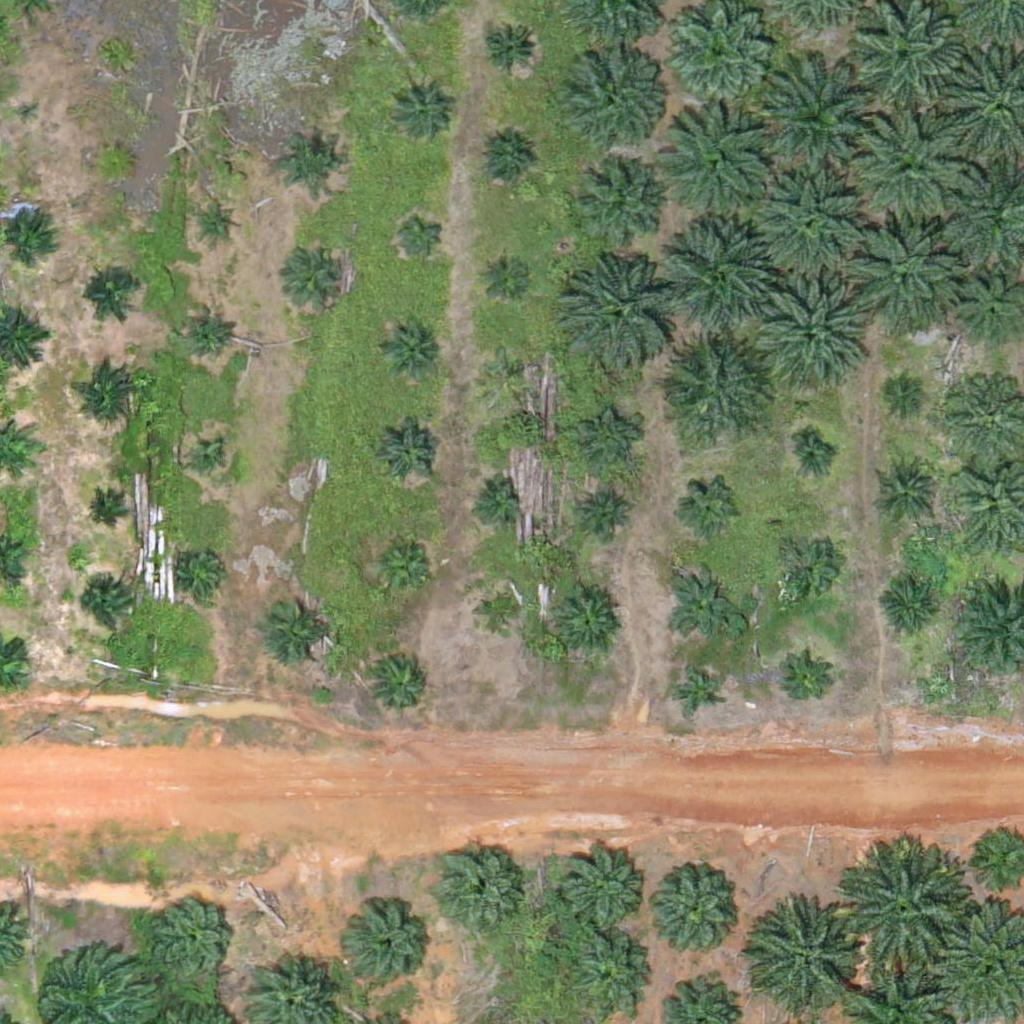Kelapa_Sawit: (842, 853, 967, 979), (758, 57, 883, 183), (556, 251, 681, 377), (753, 165, 866, 279), (663, 110, 776, 224), (751, 274, 864, 387), (664, 216, 777, 329), (655, 331, 768, 444), (844, 211, 956, 325), (855, 109, 967, 222), (644, 858, 744, 959), (564, 44, 664, 145), (755, 912, 855, 1012), (433, 843, 521, 931), (574, 161, 662, 249), (571, 929, 658, 1017), (559, 846, 646, 934), (346, 903, 433, 991), (150, 899, 237, 987), (260, 593, 335, 669), (549, 583, 624, 658), (665, 565, 740, 640), (290, 244, 353, 307), (279, 128, 342, 191), (377, 316, 440, 379), (377, 421, 440, 484), (370, 653, 433, 716), (878, 580, 941, 643), (773, 535, 836, 598), (370, 535, 433, 598), (478, 17, 541, 80), (80, 362, 142, 425), (79, 262, 141, 325), (389, 78, 451, 141), (577, 408, 639, 471), (681, 477, 743, 540), (475, 129, 537, 192), (779, 657, 829, 708), (583, 486, 633, 537), (672, 666, 722, 717), (481, 246, 531, 297), (480, 343, 530, 394), (470, 472, 520, 523), (396, 208, 446, 259), (80, 580, 130, 630), (180, 547, 230, 597), (881, 465, 931, 515), (474, 588, 524, 638), (182, 306, 232, 356), (889, 376, 927, 414), (199, 204, 237, 242), (189, 442, 227, 480), (96, 144, 134, 182), (794, 438, 831, 476), (84, 493, 121, 531), (16, 98, 41, 123)
